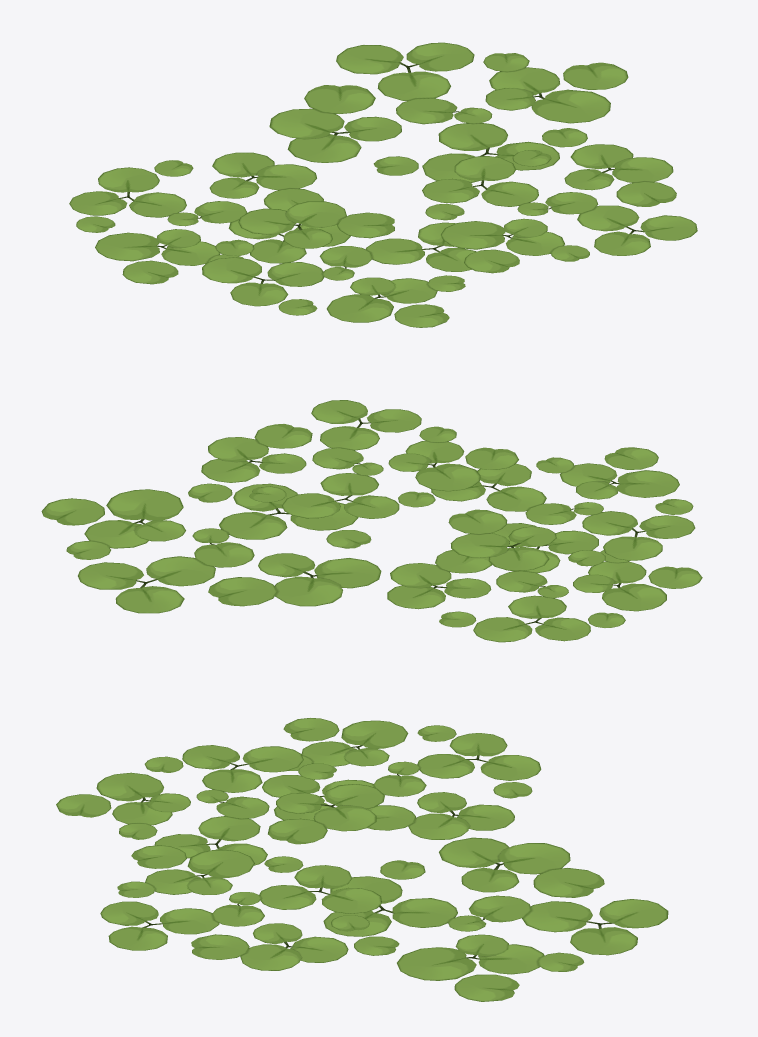
The model's file is SM_Leaves_On_Water_01 .fbx.
The picture shows the model from 3 angles, top to bottom: view 1: azimuth 30°, elevation 25°; view 2: azimuth 150°, elevation 25°; view 3: azimuth 270°, elevation 25°; orthographic projection. The views are drawn at different scales.
Visible parts, largest first — view 1: SM_Leaves_On_Water_01; view 2: SM_Leaves_On_Water_01; view 3: SM_Leaves_On_Water_01.
Part boxes in pixels (bbox=[...]): SM_Leaves_On_Water_01: bbox=[69, 42, 697, 327]; SM_Leaves_On_Water_01: bbox=[41, 400, 702, 642]; SM_Leaves_On_Water_01: bbox=[56, 718, 668, 1001].
Size of the model in its own units: 147 by 0.4501 by 141.
